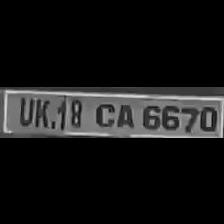0: (196, 103, 218, 132)
1: (50, 96, 66, 128)
6: (137, 101, 159, 128), (160, 102, 180, 130)
7: (180, 103, 198, 132)
8: (66, 96, 86, 128)
A: (114, 100, 136, 128)
C: (90, 99, 116, 127)
K: (32, 95, 50, 127)
U: (14, 94, 32, 125)
